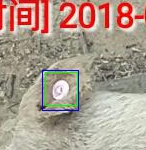text: (45, 72, 77, 105)
